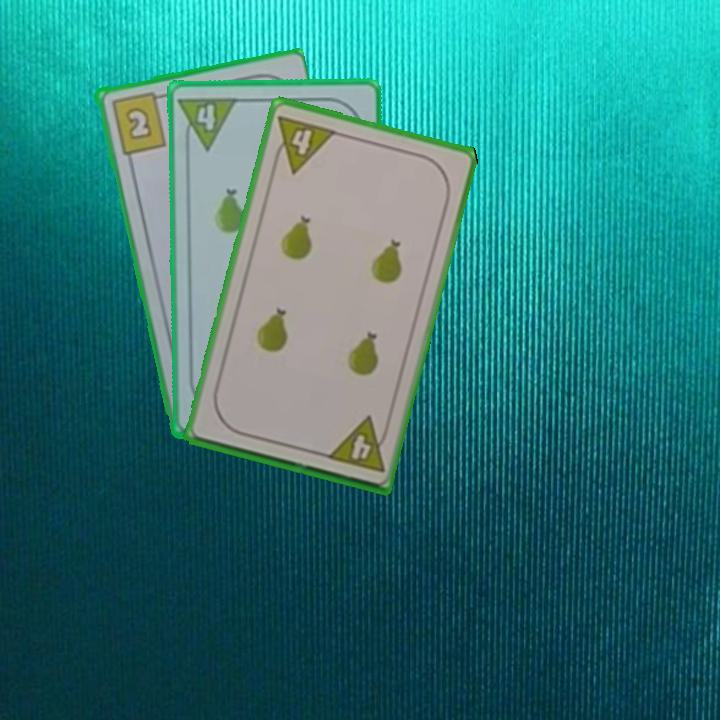2b: (107, 87, 169, 157)
4p: (268, 111, 339, 176), (323, 413, 393, 476), (175, 93, 240, 153)
